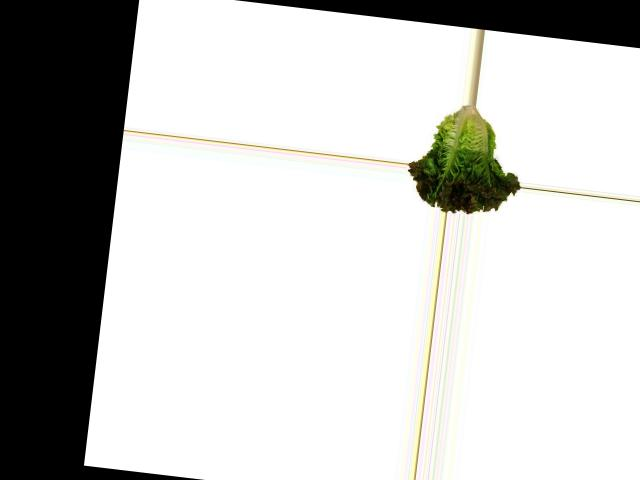lettuce: (405, 98, 529, 219)
